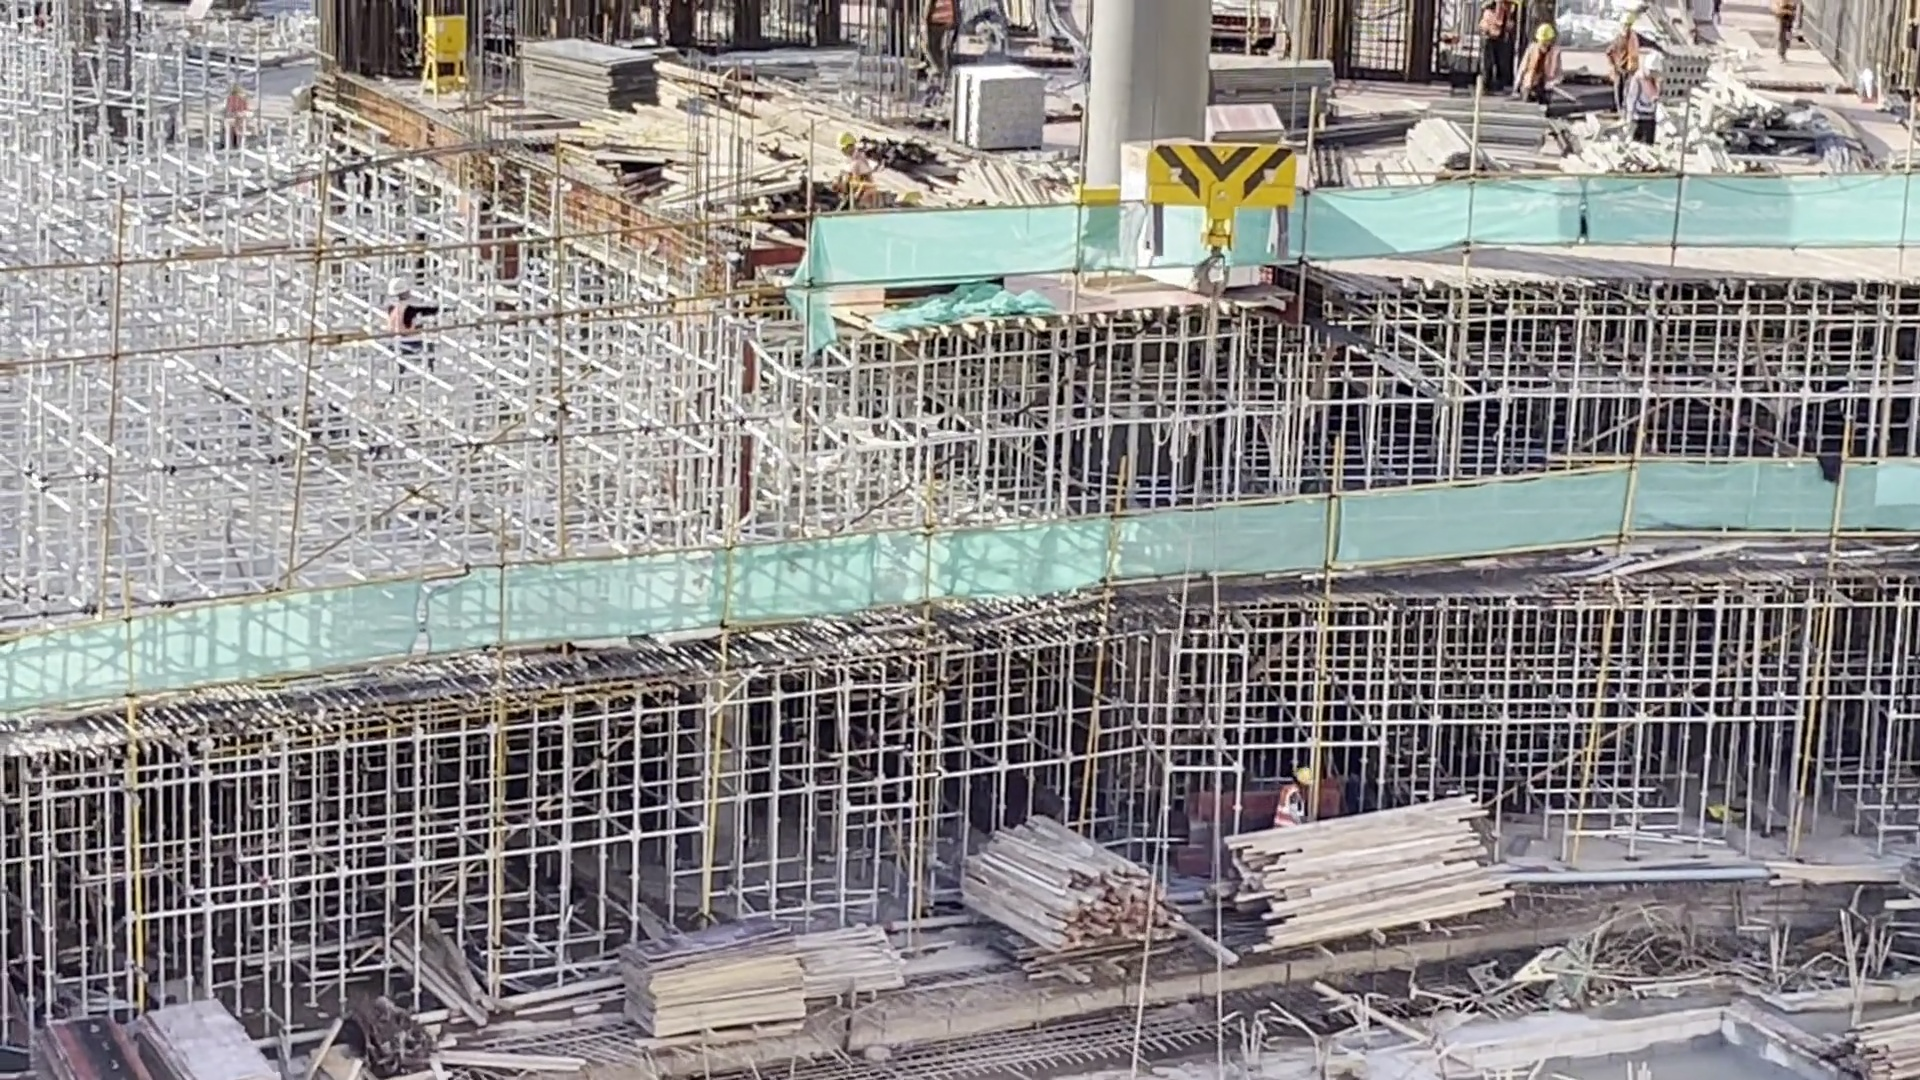board: (618, 917, 811, 1039), (518, 38, 663, 120), (137, 994, 270, 1080), (33, 1016, 150, 1080), (1212, 56, 1333, 97), (1208, 97, 1285, 143)
ebox: (413, 12, 474, 101)
helmet: (1641, 53, 1664, 71), (386, 275, 408, 296), (1533, 24, 1556, 39), (1294, 767, 1310, 788)
hook: (1137, 128, 1308, 298)
person: (1514, 23, 1565, 102), (1625, 51, 1665, 147), (1476, 1, 1515, 97), (921, 1, 963, 67), (1608, 10, 1649, 78), (1271, 765, 1311, 830), (1772, 1, 1807, 63)
scaffold: (952, 64, 1045, 157)
vest: (1275, 783, 1301, 826)
wood: (1217, 808, 1522, 935), (954, 811, 1180, 953), (1833, 1012, 1917, 1080), (1401, 116, 1470, 171)
